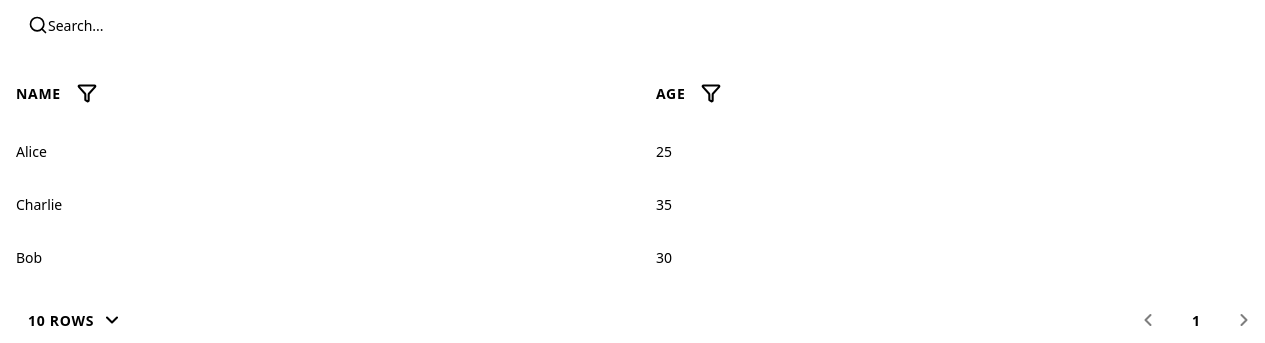
Table Component › should toggle numeric filter off when clicked again
Open Age filter
Click the button named "Filter by Age": (712, 93) [694, 77, 730, 109]
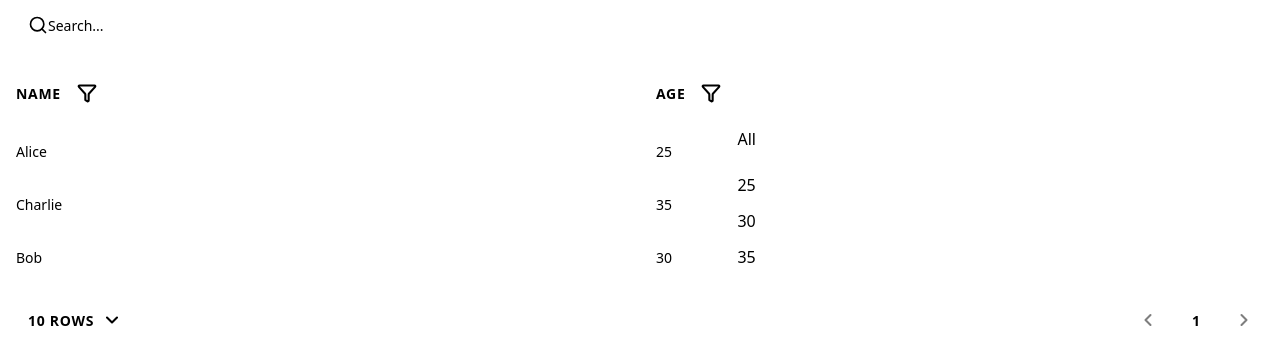
Click "25" to select
Click the button "25": (773, 185) [698, 167, 848, 204]
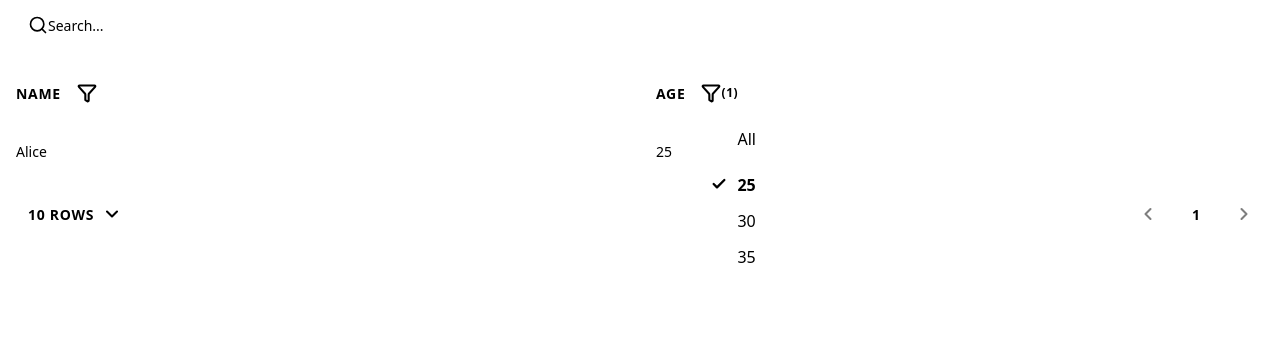
Expected: the text "Alice" is shown, [0, 125, 640, 178]
Result: the text "Bob" is gone
Click "25" again to deselect
Click the button "25": (773, 185) [698, 167, 848, 204]
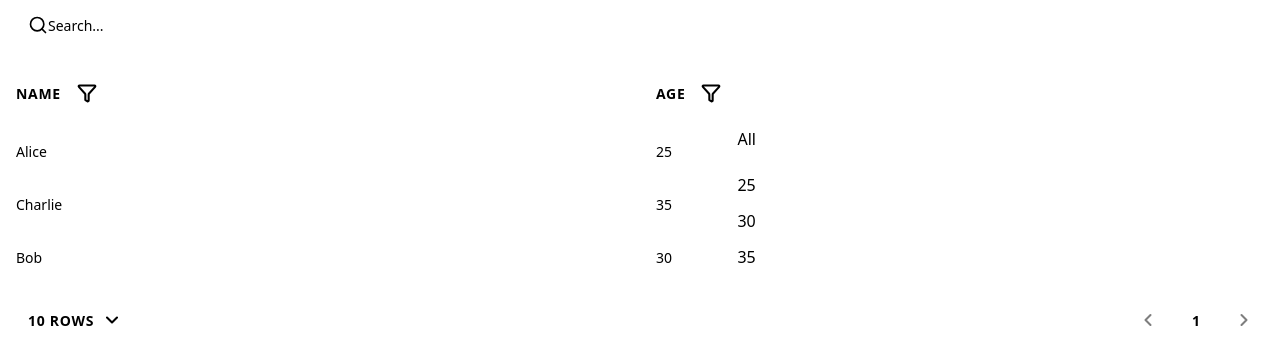
Result: the text "Bob" is shown at [0, 231, 640, 284]
